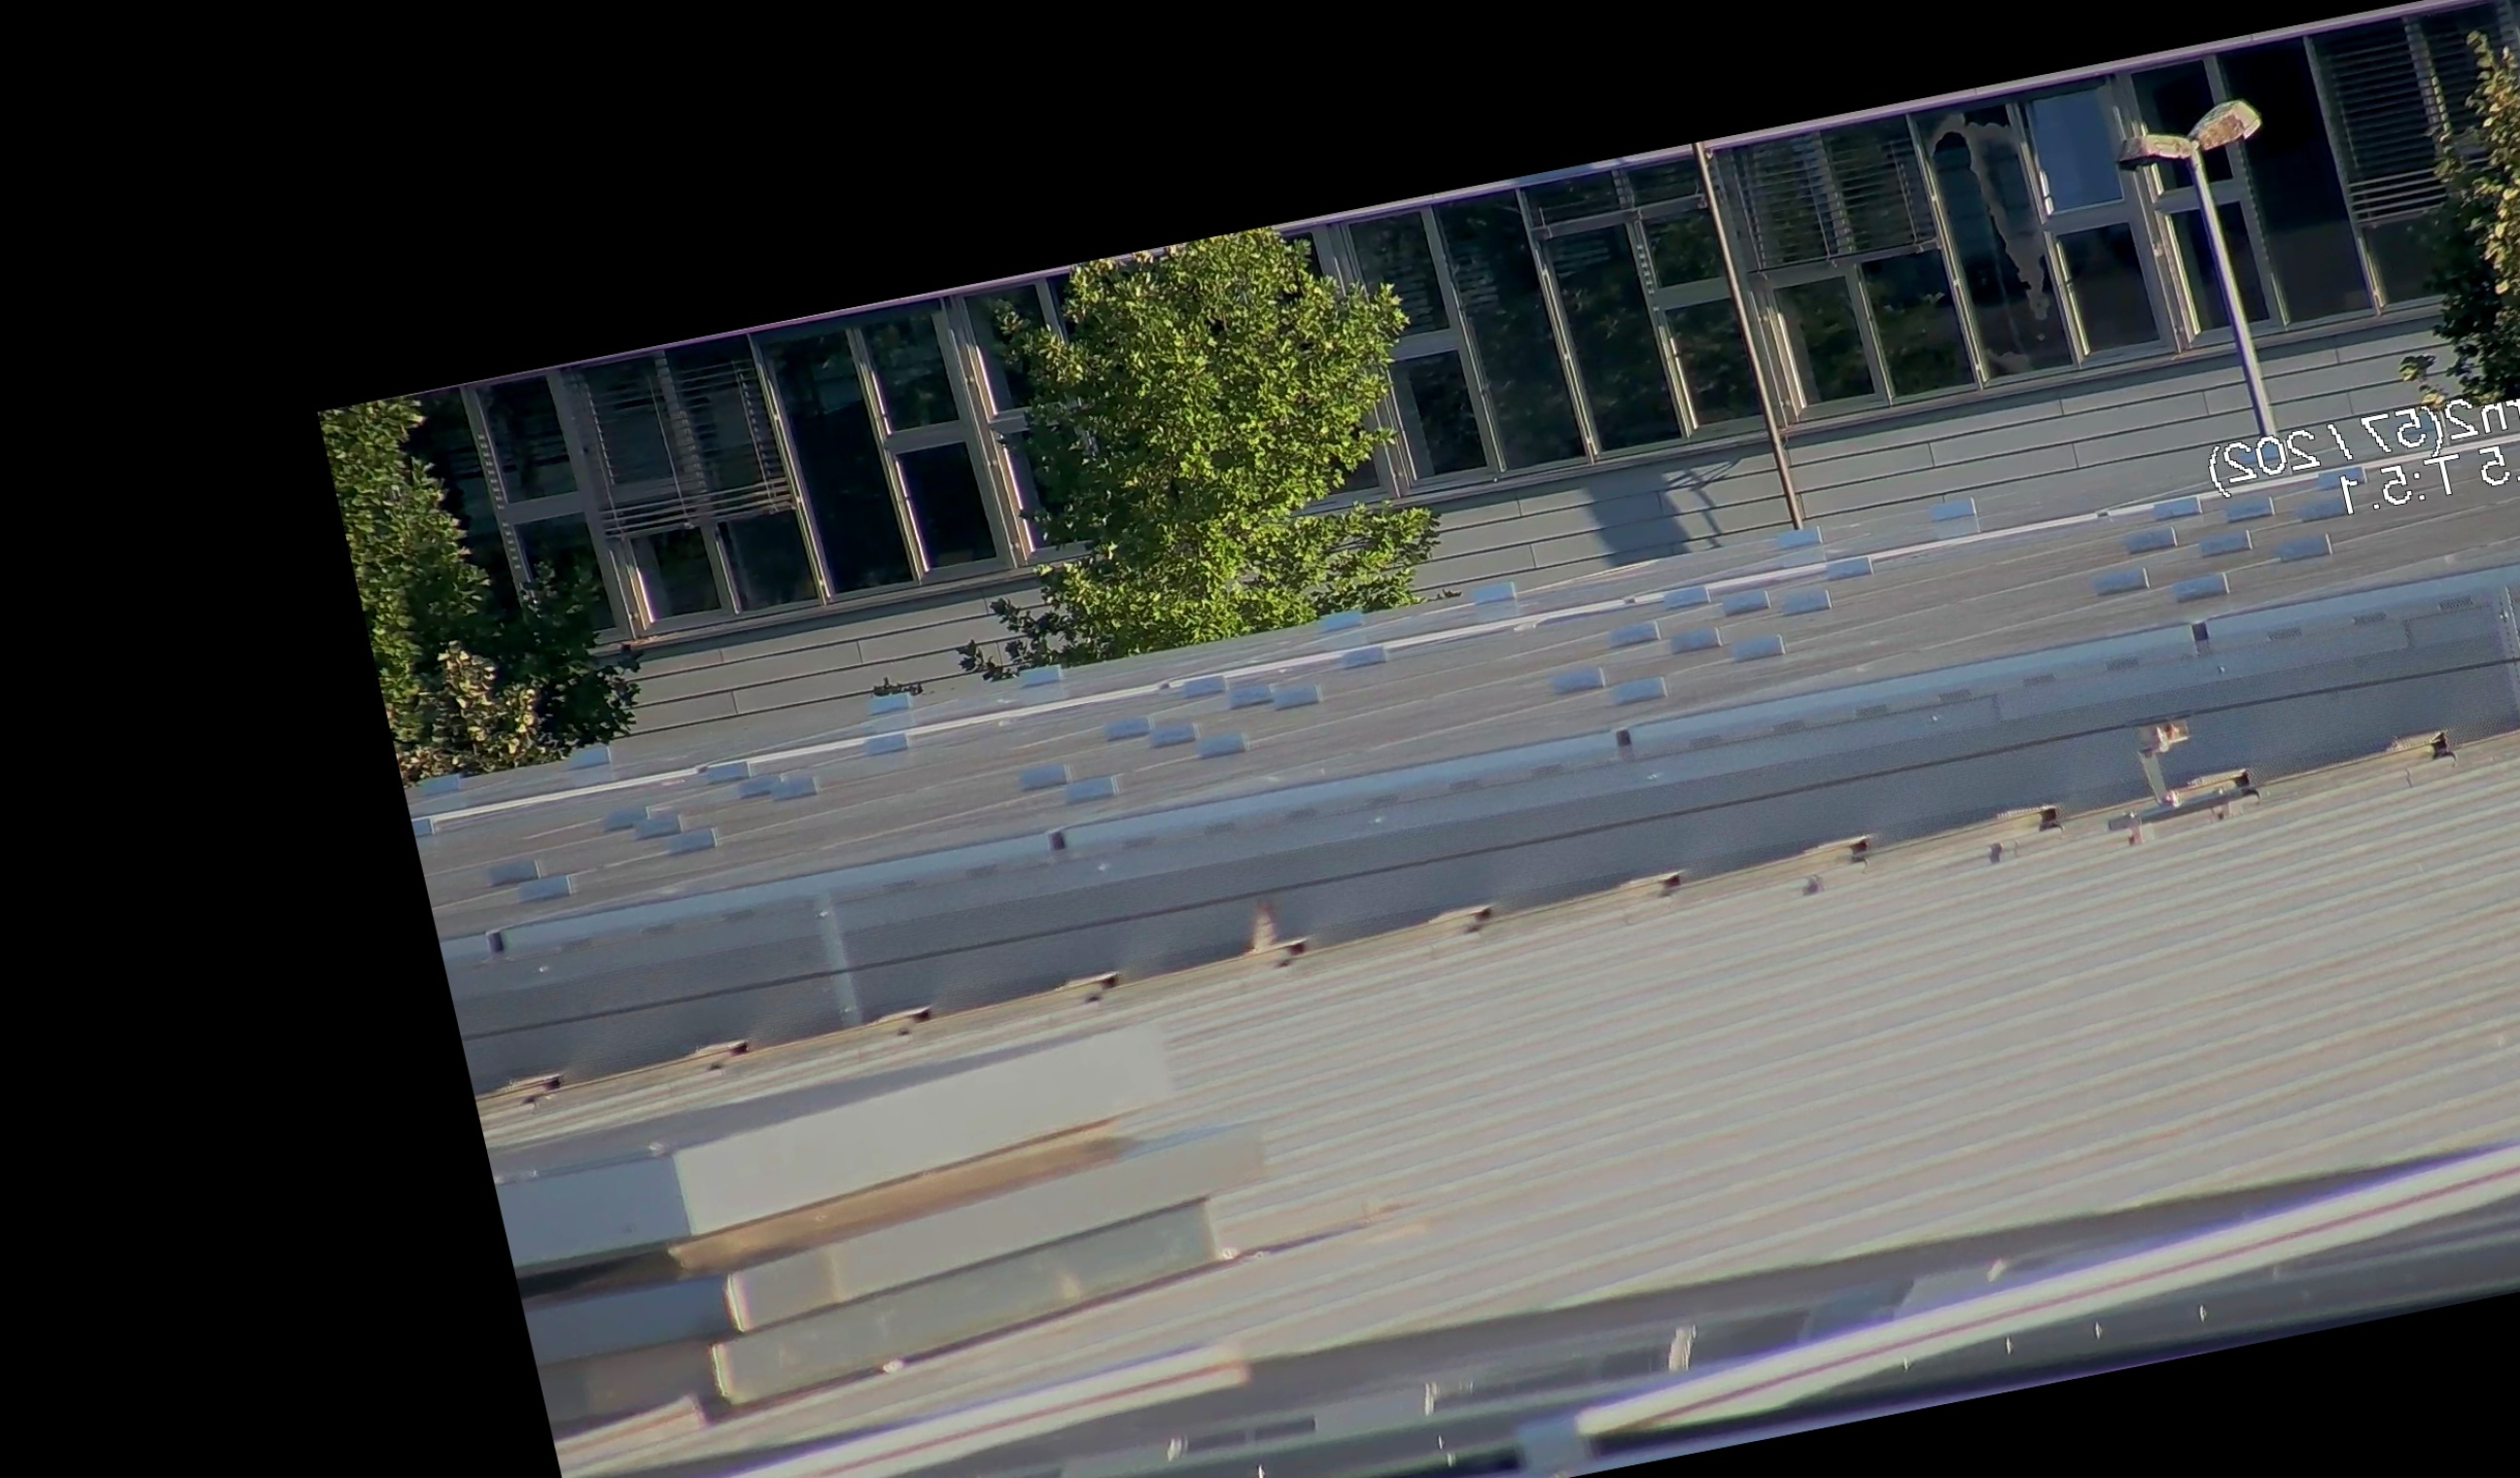Other: (1219, 883, 1310, 984)
